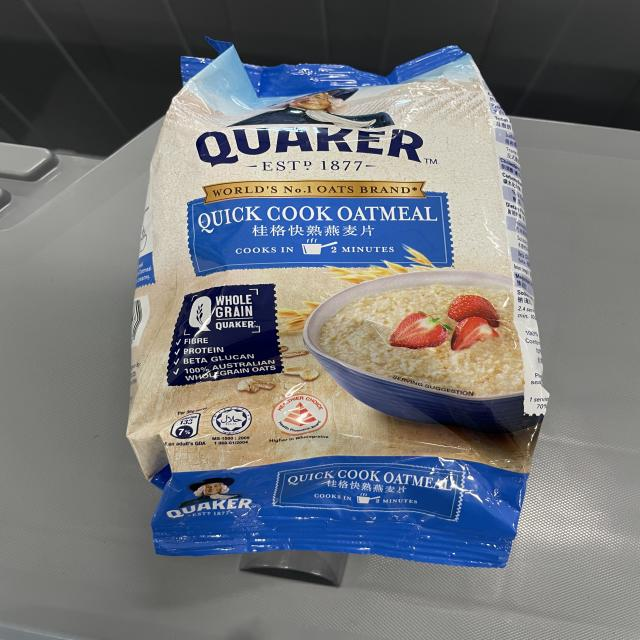object_name: (173, 68, 508, 556)
